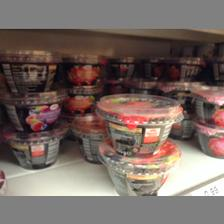Marmelade: (95, 92, 185, 156), (98, 134, 180, 194), (0, 127, 68, 167), (0, 92, 66, 132), (0, 50, 58, 92), (61, 52, 107, 84), (162, 56, 202, 80), (104, 55, 140, 79)
